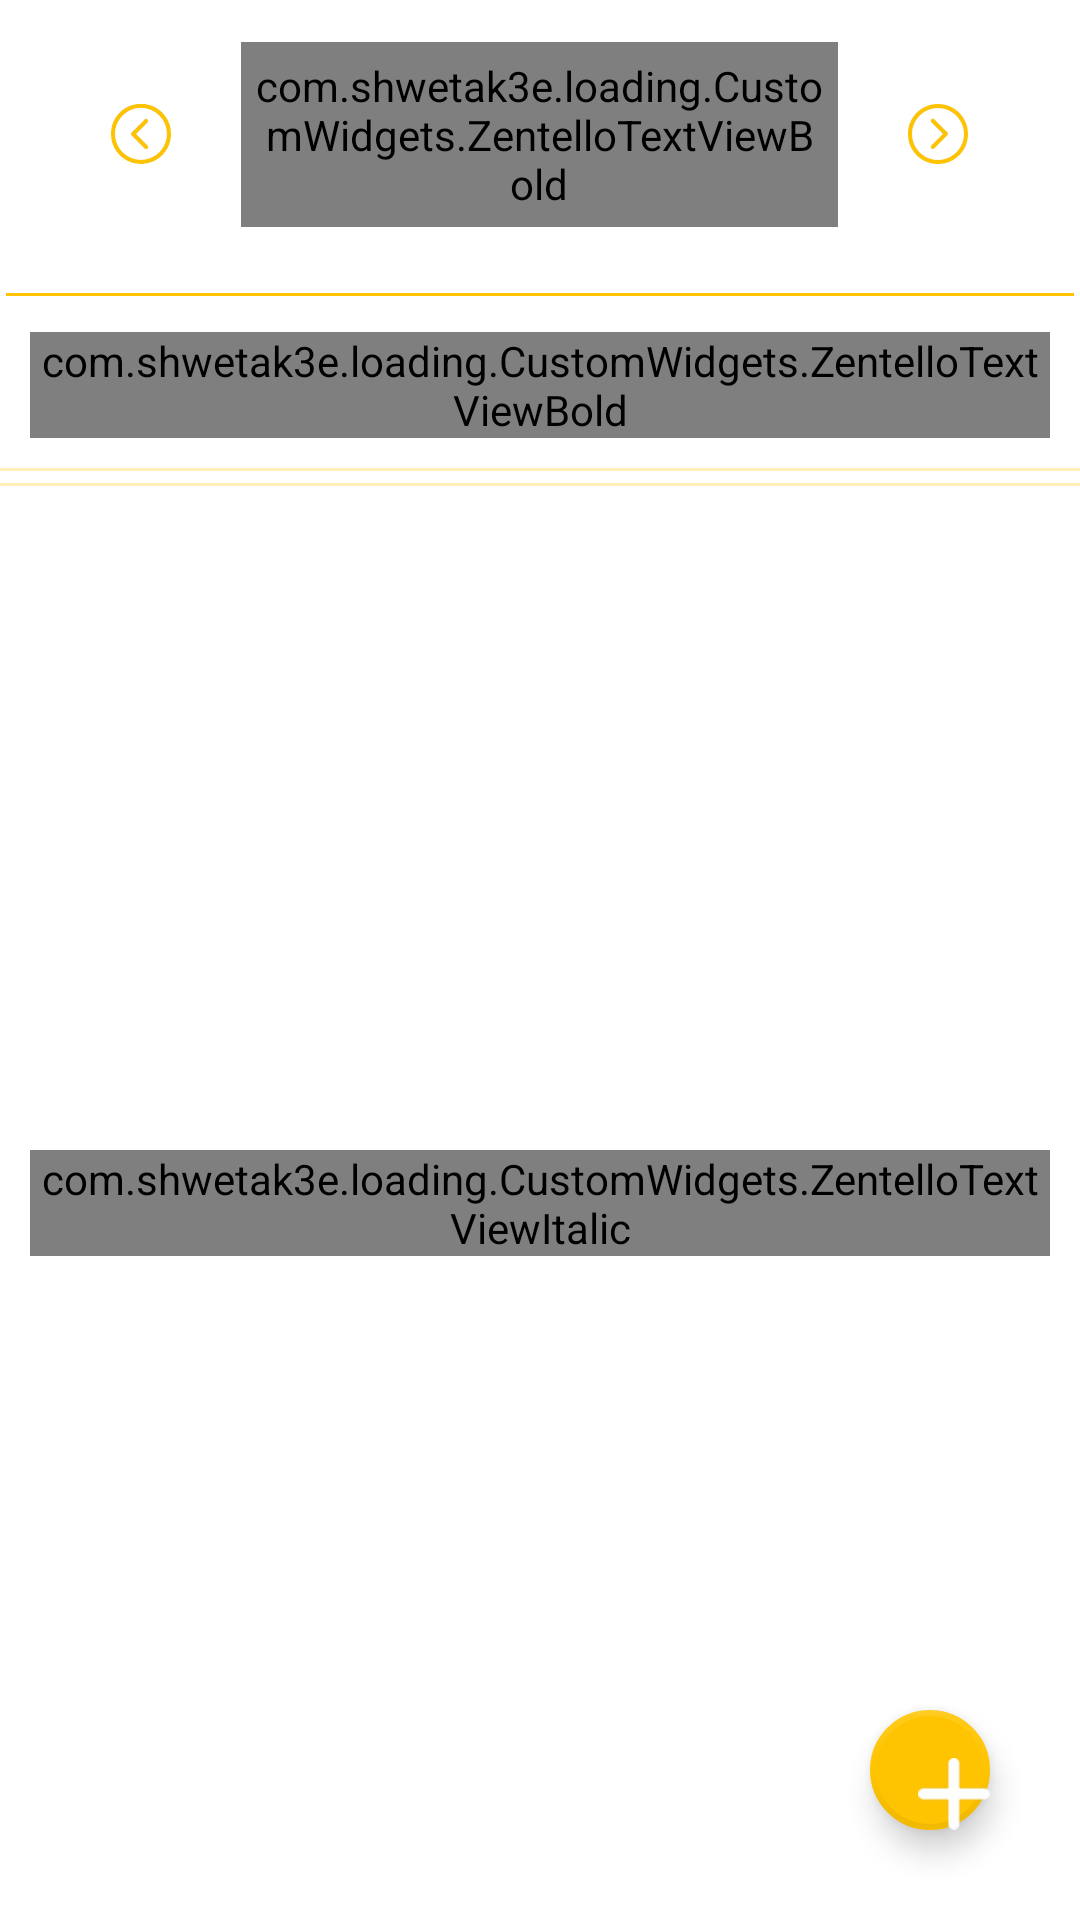

Where icons sit on this 1080×1920 app screen, as (x1, y1, x2, y2):
next item: (908, 104, 968, 164)
plus: (870, 1710, 990, 1830)
prev item: (111, 104, 171, 164)
